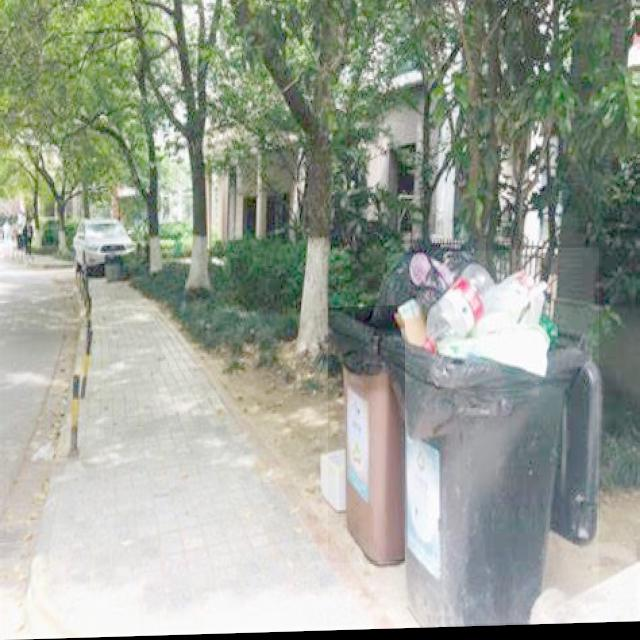garbage_bin: (328, 308, 405, 566)
overflow: (388, 251, 600, 629)
